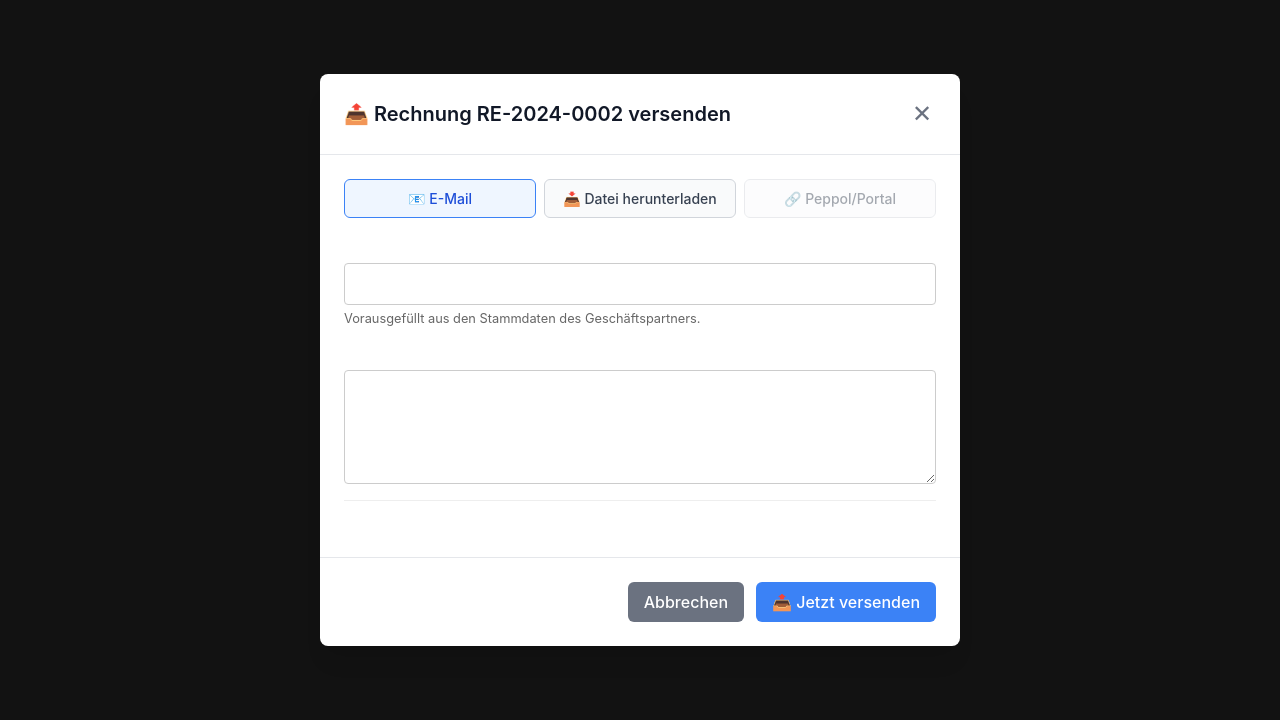
SendInvoiceModal › download mode — B2G › shows XRechnung download info for B2G invoice
The width and height of the screenshot is (1280, 720).
Click the button with class "mode-btn" showing "📥 Datei herunterladen" at (640, 198), box [544,179,736,218]
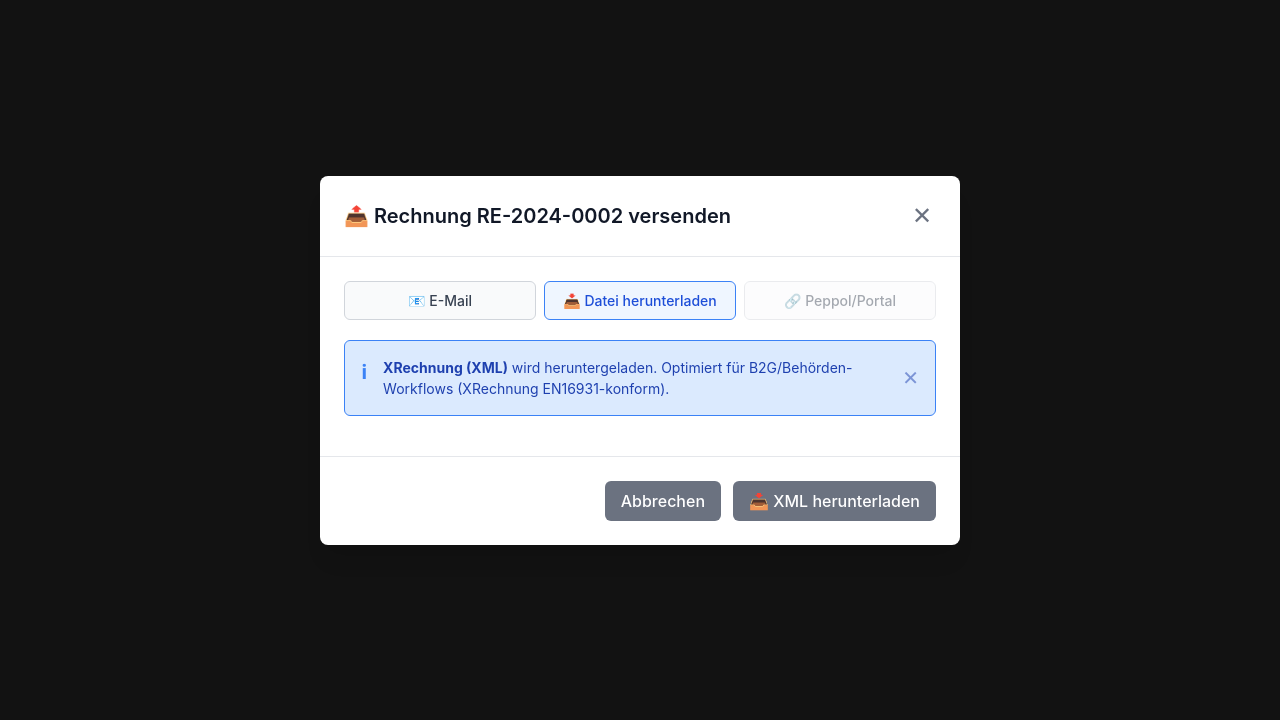
Expected: the text "XRechnung" is shown, [383,358,508,376]
